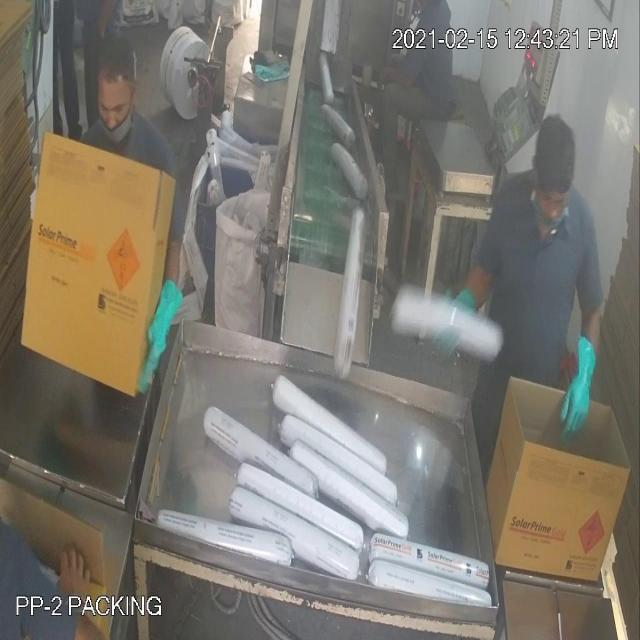Gloves: (44, 34, 581, 570)
